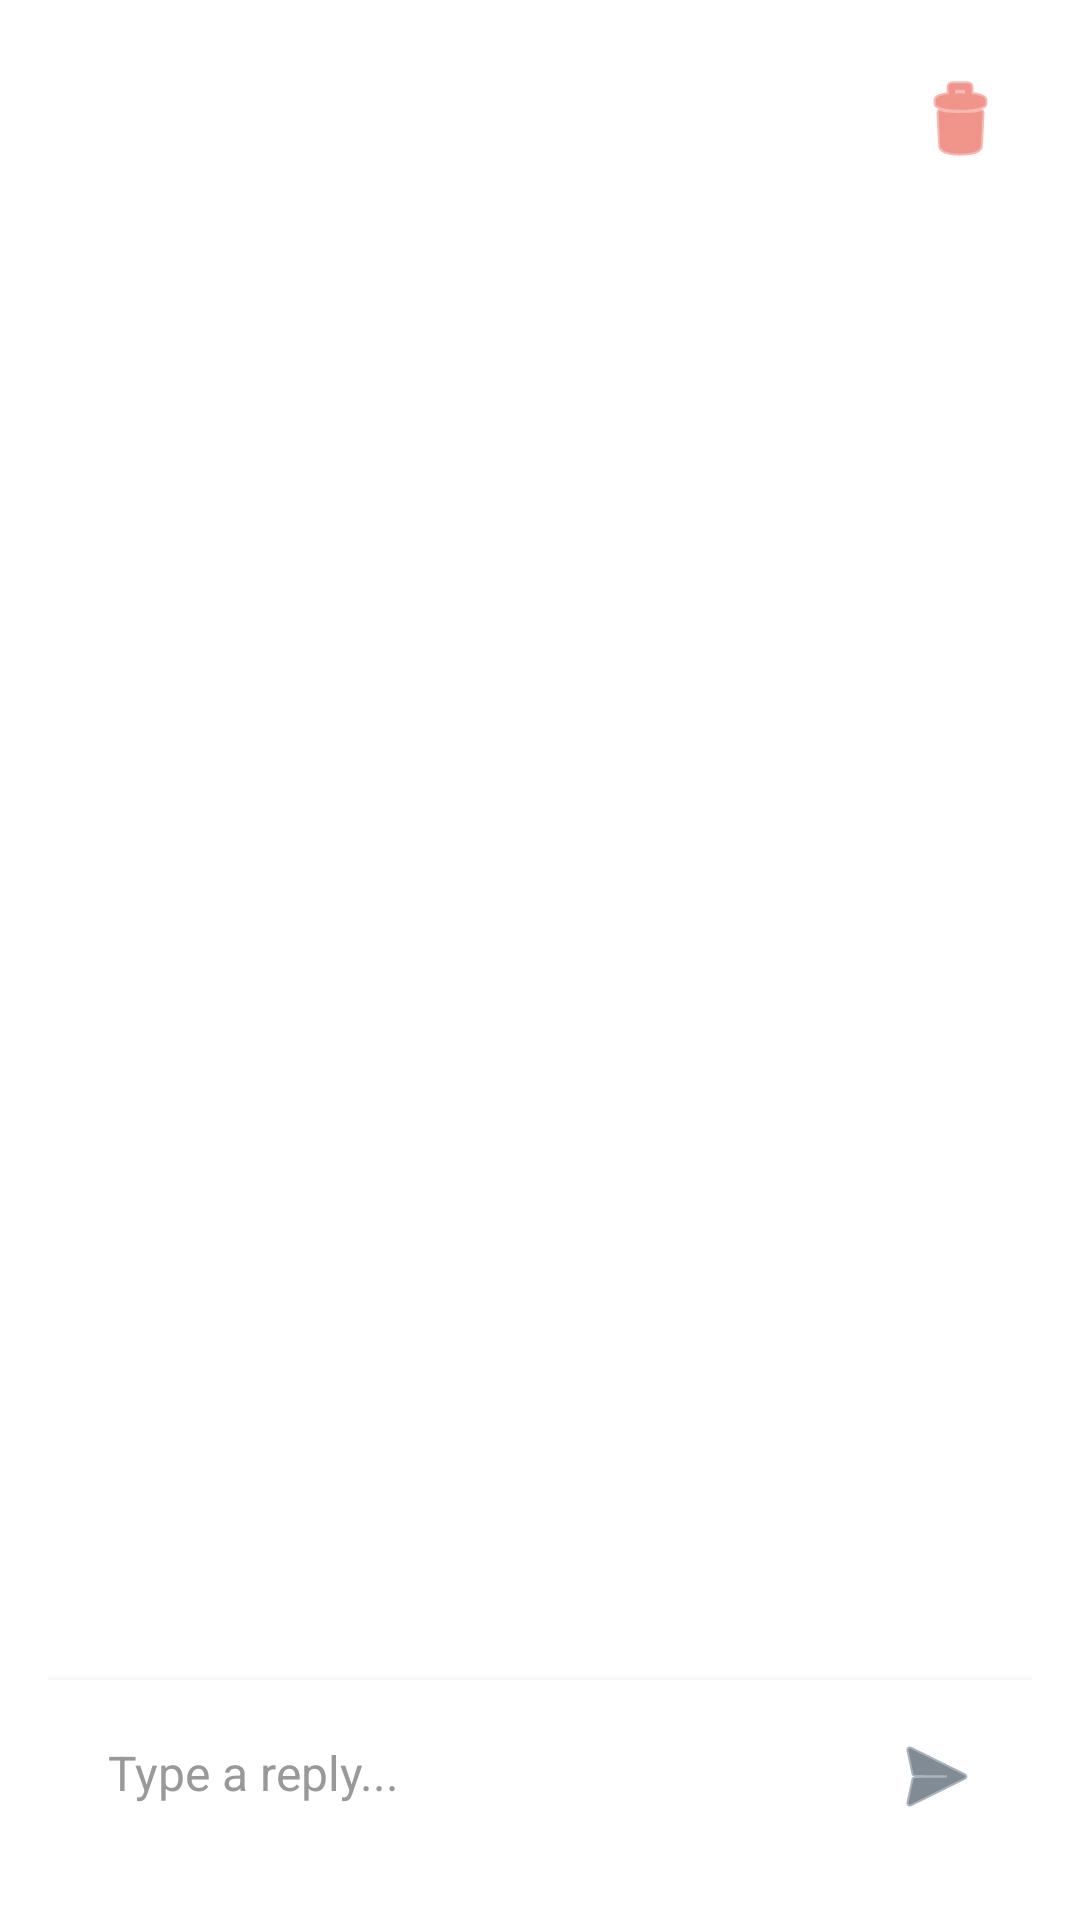

Screen size 1080 × 1920. Icon name, then its center in pixels as [x,y]:
Delete Message: [960,118]
Send: [937,1776]
